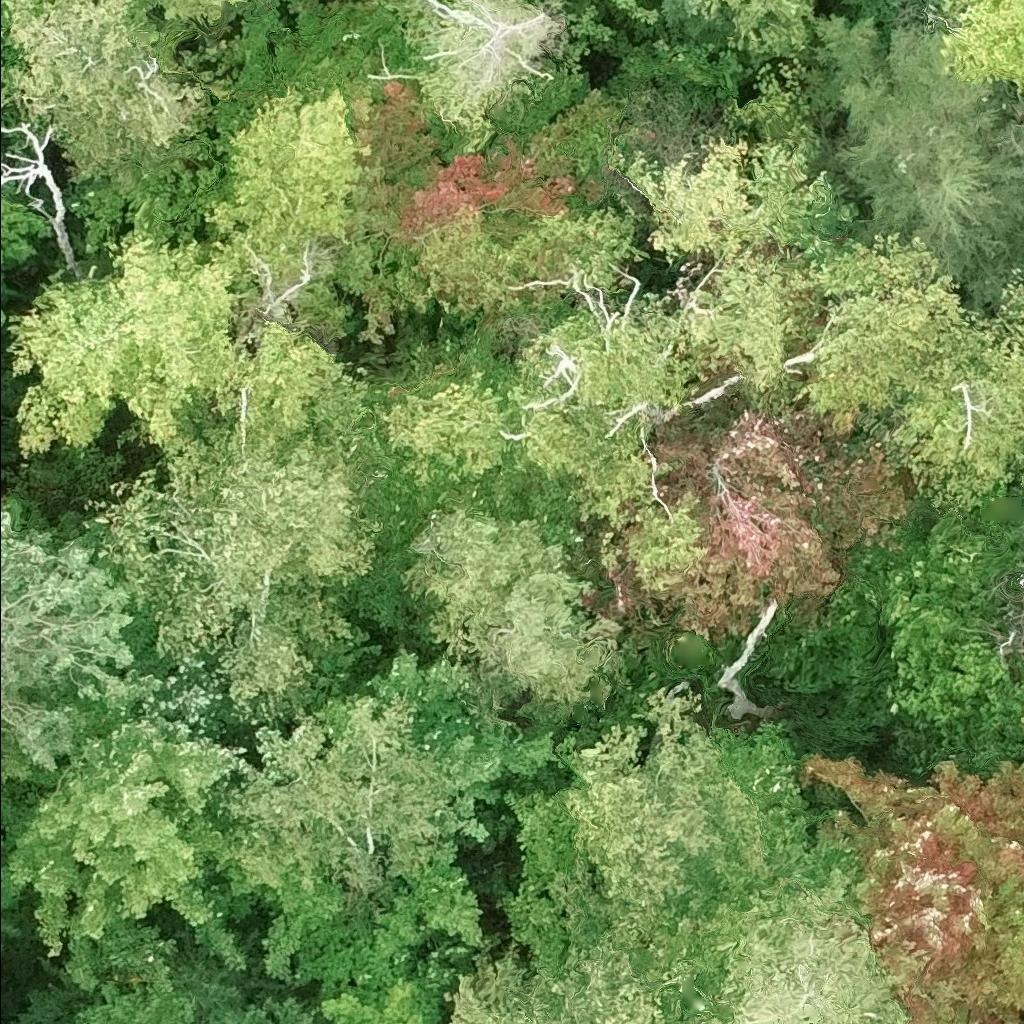crown: (573, 389, 920, 647), (85, 424, 383, 719), (0, 711, 248, 991), (812, 1, 1023, 309), (800, 758, 1023, 1023), (5, 229, 258, 462), (555, 682, 770, 955), (0, 506, 161, 864), (846, 490, 1023, 777), (209, 696, 457, 892), (636, 843, 903, 1023), (499, 298, 703, 528), (409, 506, 610, 710), (202, 84, 373, 295), (785, 230, 966, 428), (881, 264, 1023, 512), (356, 322, 520, 534), (73, 909, 320, 1023), (445, 938, 674, 1023), (605, 135, 754, 262), (687, 245, 812, 392), (245, 321, 376, 456), (598, 490, 708, 588), (935, 0, 1023, 95), (686, 0, 820, 60), (135, 0, 256, 26), (813, 0, 895, 14), (658, 0, 688, 36), (0, 312, 4, 325)
